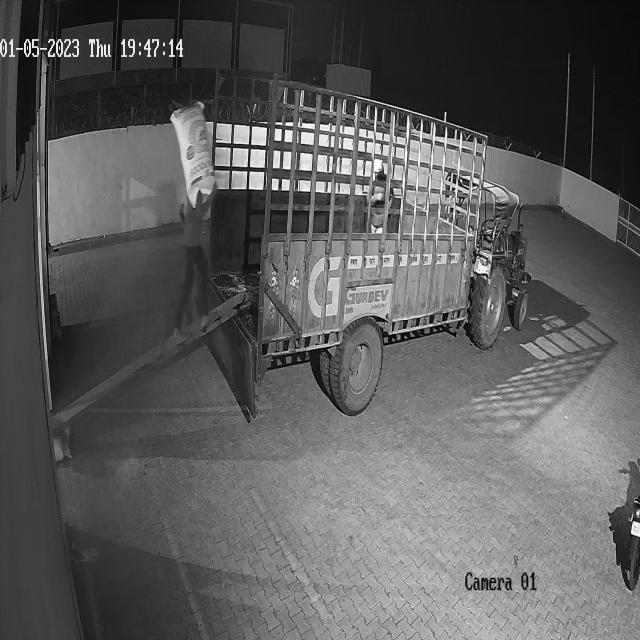sack: (170, 101, 215, 208)
